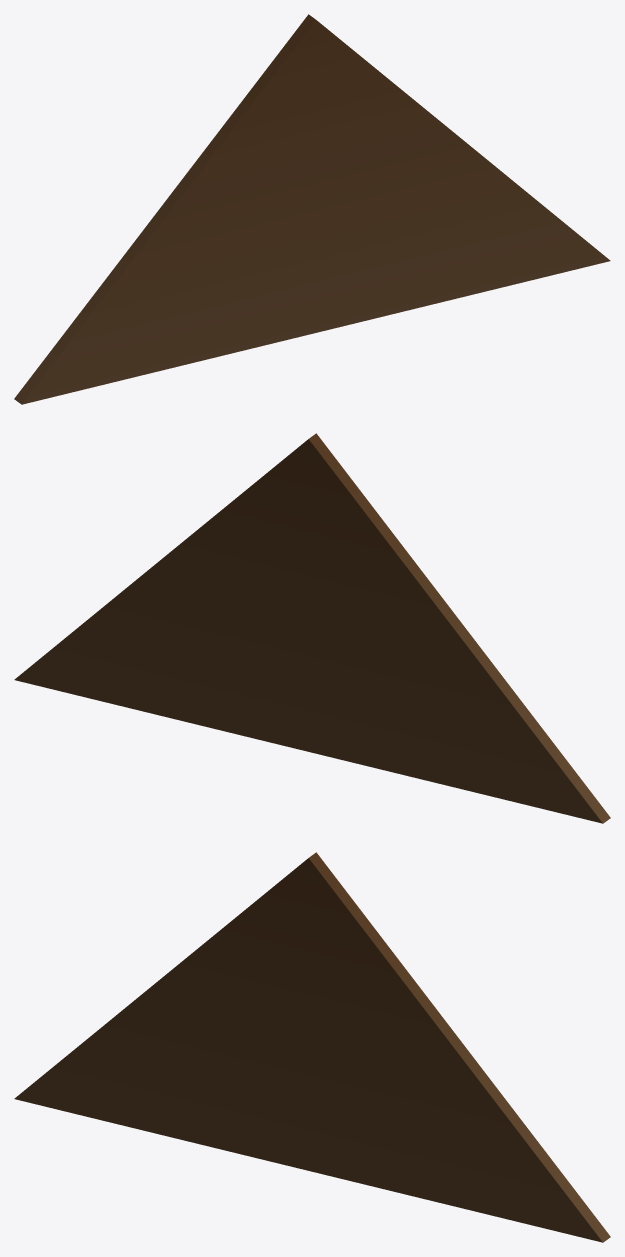
Rendered from Wall_05.fbx.
3 views of the same model, one above another, from view 1: azimuth 30°, elevation 25°; view 2: azimuth 150°, elevation 25°; view 3: azimuth 330°, elevation 25° (orthographic).
Visible parts, largest first — view 1: Plane.064; view 2: Plane.064; view 3: Plane.064.
Boxes of the visible parts, x1=… form: Plane.064: x1=14, y1=14, x2=610, y2=404; Plane.064: x1=14, y1=433, x2=610, y2=823; Plane.064: x1=14, y1=852, x2=610, y2=1242.
Size of the model in its own units: 462 by 234 by 10.6.
